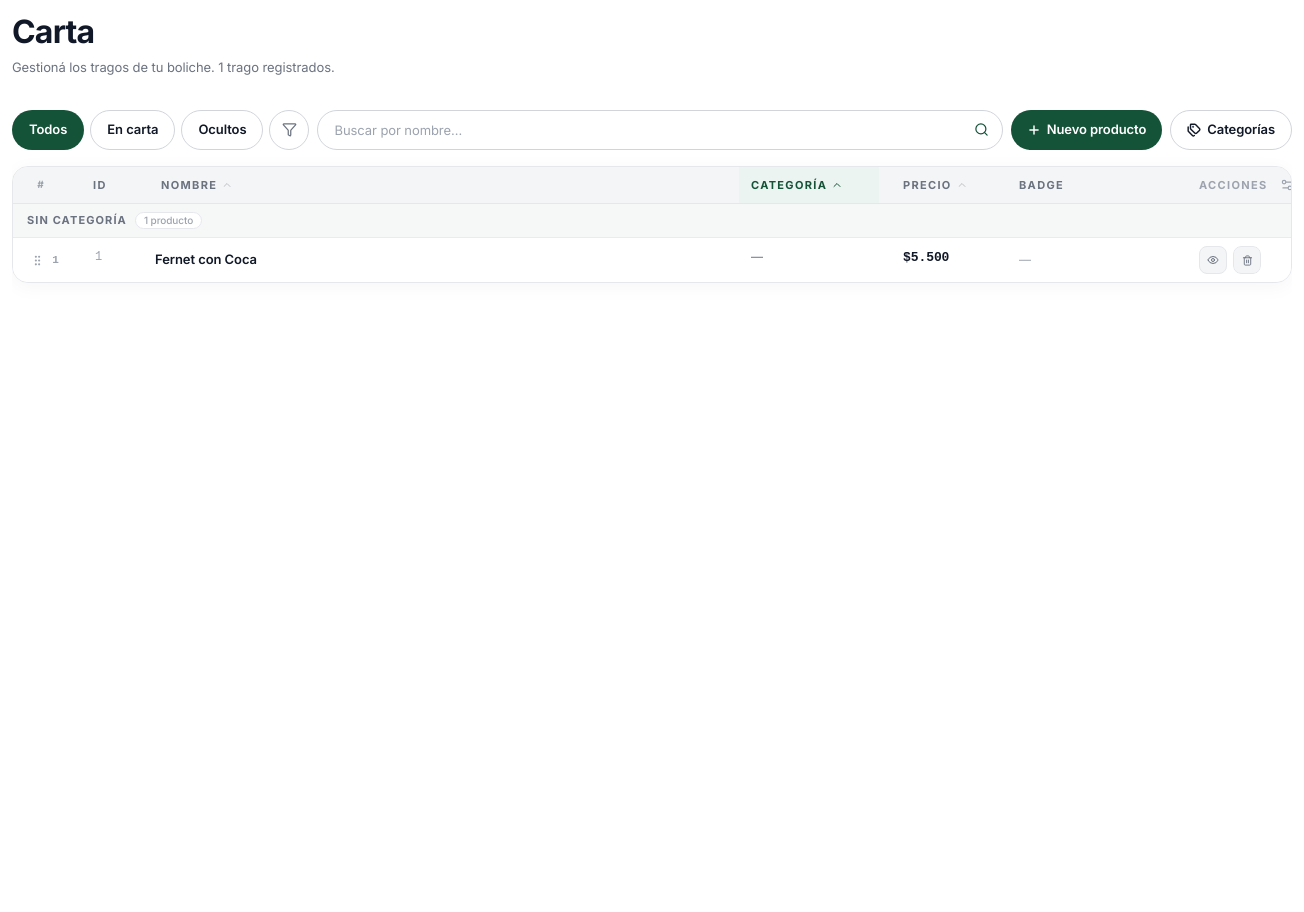
CartaSection › muestra un toast de error si falla la eliminación de un trago
This screenshot has width=1304, height=912.
Expected: the text "Fernet con Coca" is shown, [155, 251, 257, 267]
Step 1. Click the button titled "Eliminar" → [1247, 260], box [1233, 246, 1261, 274]
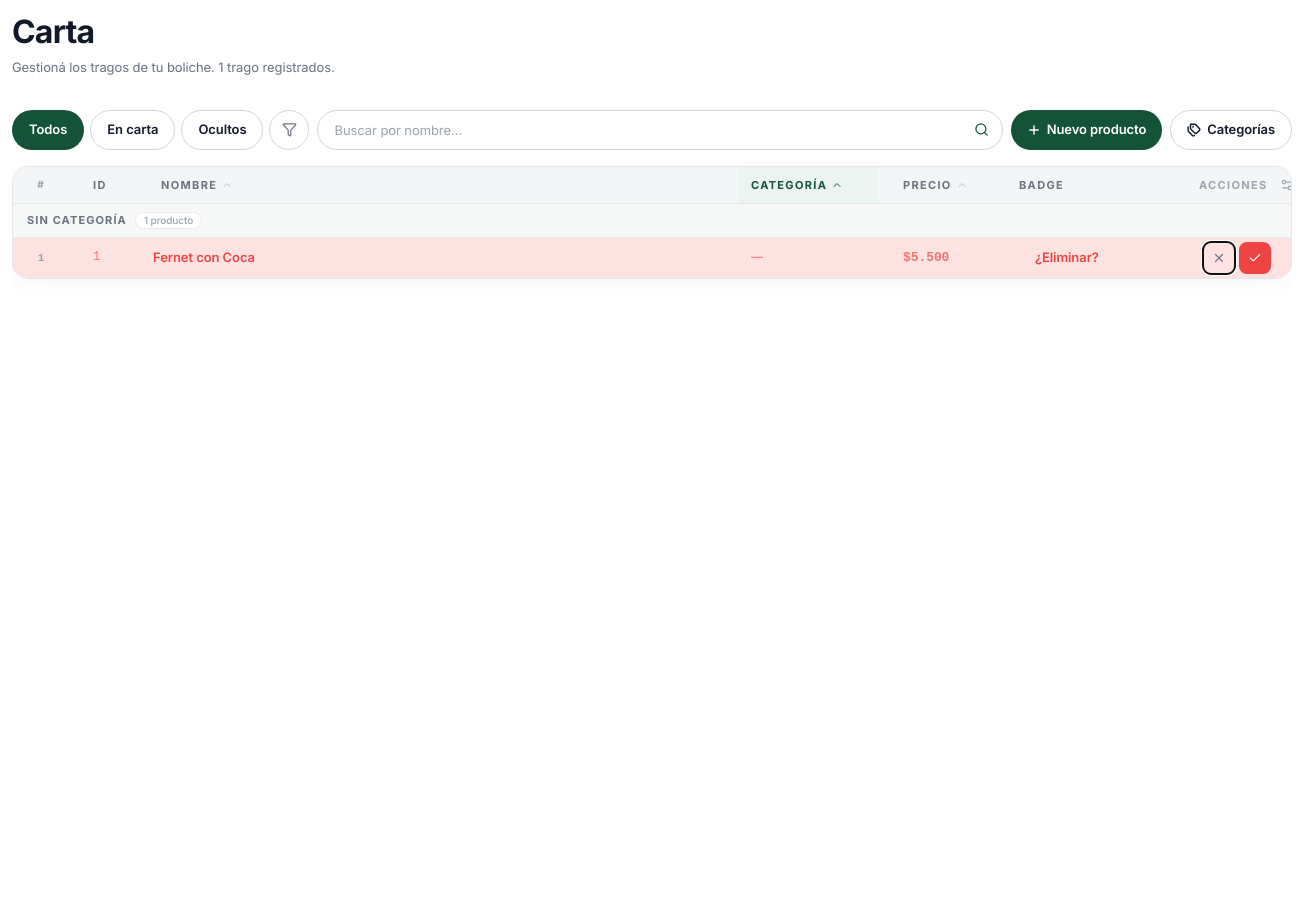
Step 2. Click the button named "Confirmar" → [1255, 258], box [1239, 242, 1271, 274]
Wait 5000 ms
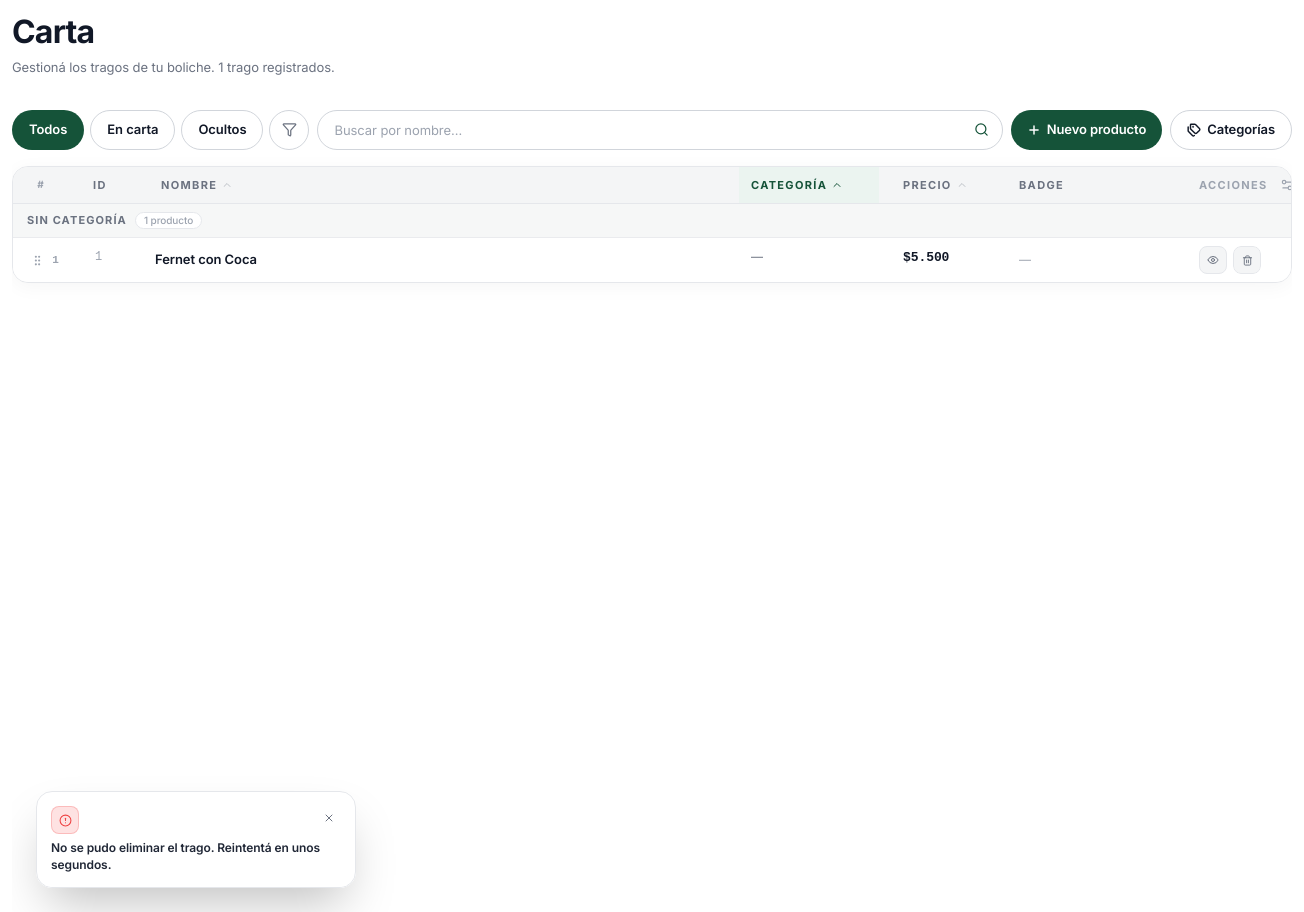
Expected: the text "Fernet con Coca" is shown, [155, 251, 257, 267]
Expected: the text "No se pudo eliminar el trago. Reintentá en unos segundos." is shown, [51, 840, 341, 873]
